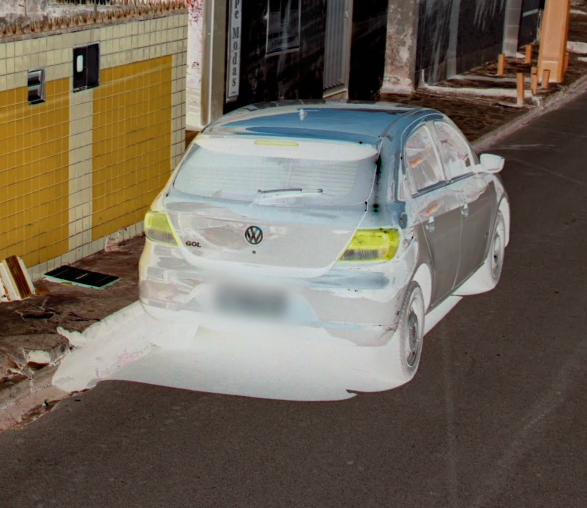car: (136, 92, 514, 392)
